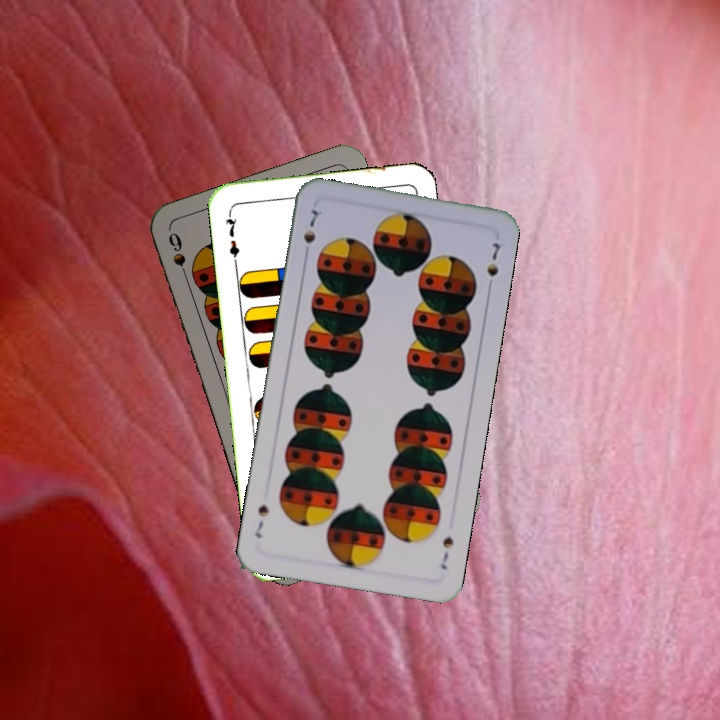E7: (221, 207, 242, 267)
S7: (299, 205, 321, 261), (436, 533, 457, 572)
S9: (164, 228, 192, 286)
